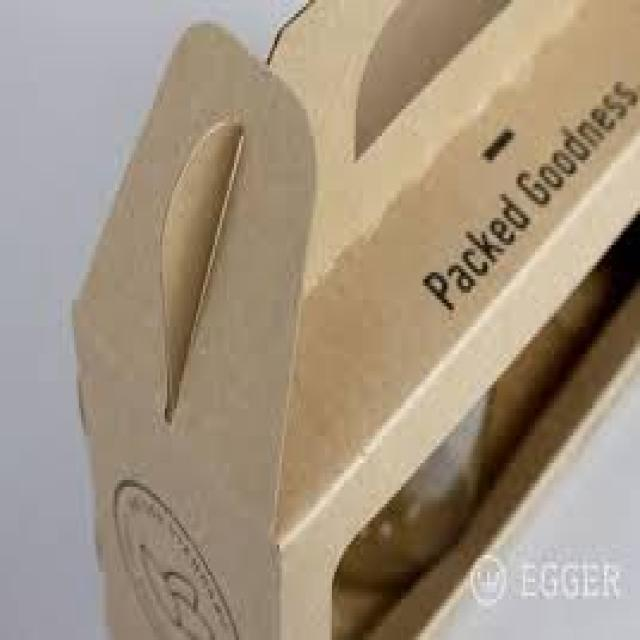Cardboard: (71, 0, 640, 640)
